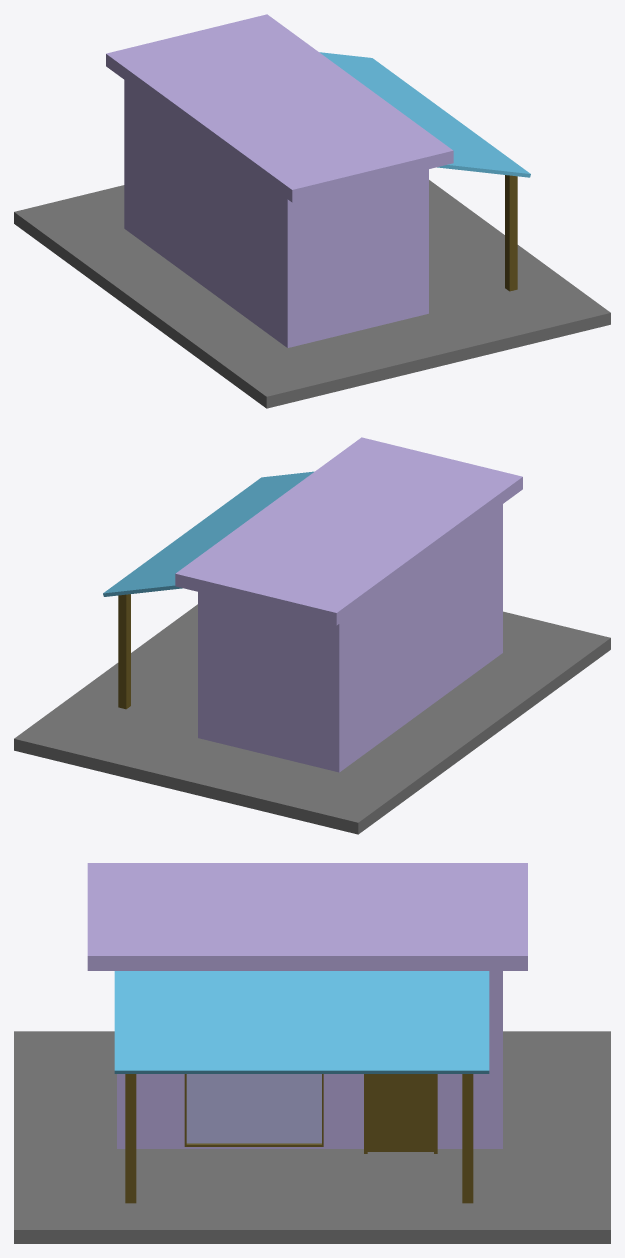
Rendered from shop02.fbx.
3 renders of one model, top to bottom at view 1: azimuth 30°, elevation 25°; view 2: azimuth 150°, elevation 25°; view 3: azimuth 270°, elevation 25°, orthographic. The views are drawn at different scales.
Visible parts, largest first — view 1: shop2; view 2: shop2; view 3: shop2.
Boxes of the visible parts, x1,y1,x2,y2 form: shop2: (14, 14, 610, 408); shop2: (14, 437, 610, 834); shop2: (14, 863, 610, 1243).
Size of the model in its own units: 4.27 by 2.16 by 5.42.
